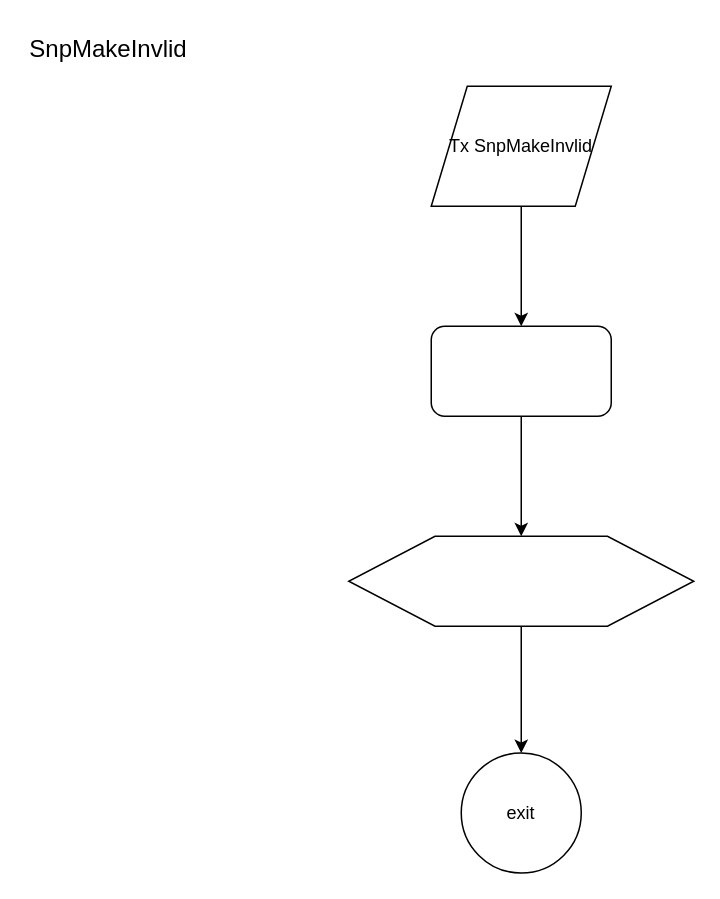
Some shapes in this 720 by 899 pixel diagram are drawn without their labels. The centre of each missing label's shape, as x and y in pixels:
"Flush SF" goes at point (520, 580).
"SnpResp_I" goes at point (520, 370).
